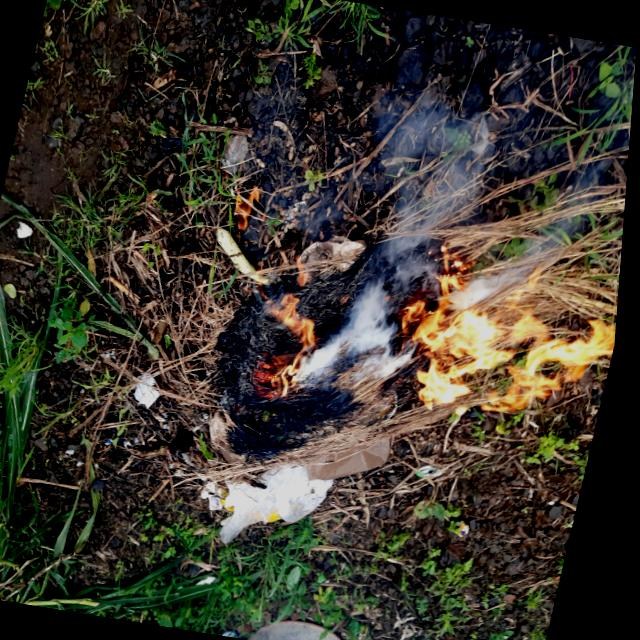helmet: (386, 240, 626, 436)
no_helmet: (356, 104, 495, 290), (300, 280, 413, 400)
